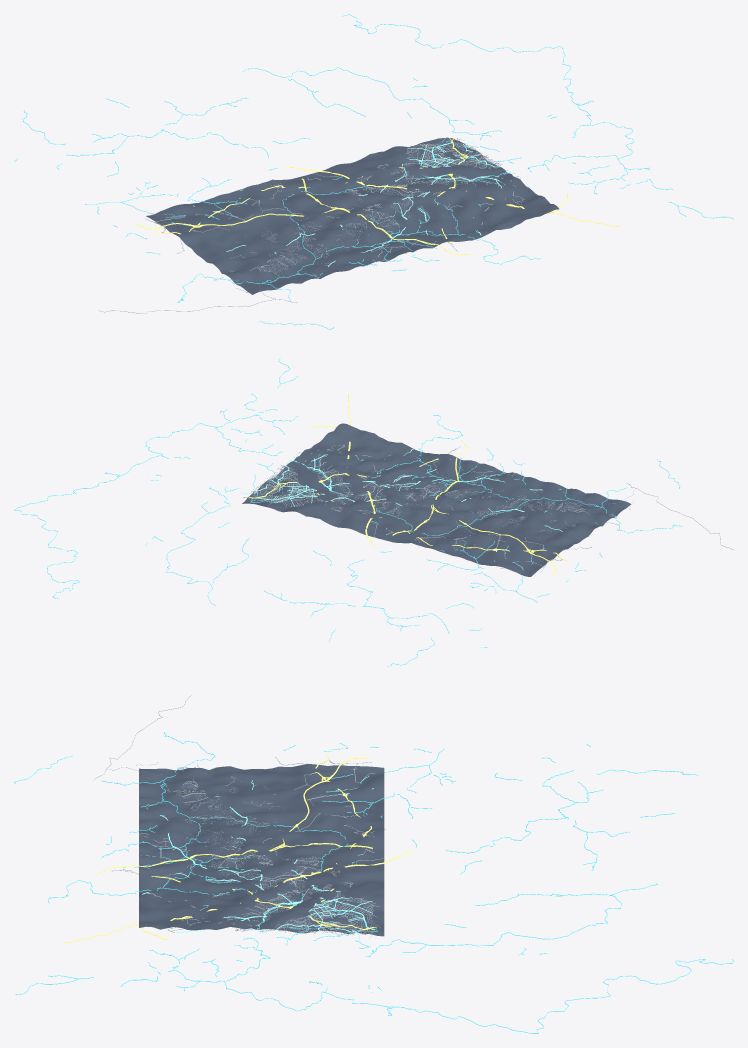
File: step1_campinas_basemap.glb
The picture shows the model from 3 angles, top to bottom: view 1: azimuth 30°, elevation 25°; view 2: azimuth 150°, elevation 25°; view 3: azimuth 270°, elevation 25°; orthographic projection. The views are drawn at different scales.
Visible parts, largest first — view 1: Base_Terrain_Campinas_30m, Rios_e_Corregos_Campinas, Ruas_Residenciais_Locais_4500, Vias_Coletoras_Bairros_2378, Rodovias_Anhanguera_Bandeirantes_535, Avenidas_Arteriais_e_BRT_1142; view 2: Base_Terrain_Campinas_30m, Rios_e_Corregos_Campinas, Ruas_Residenciais_Locais_4500, Vias_Coletoras_Bairros_2378, Rodovias_Anhanguera_Bandeirantes_535, Avenidas_Arteriais_e_BRT_1142; view 3: Base_Terrain_Campinas_30m, Rios_e_Corregos_Campinas, Ruas_Residenciais_Locais_4500, Vias_Coletoras_Bairros_2378, Rodovias_Anhanguera_Bandeirantes_535, Avenidas_Arteriais_e_BRT_1142.
Boxes of the visible parts, <box> form: Base_Terrain_Campinas_30m: <box>146,137,559,294</box>; Rios_e_Corregos_Campinas: <box>14,14,733,329</box>; Ruas_Residenciais_Locais_4500: <box>229,138,500,298</box>; Vias_Coletoras_Bairros_2378: <box>98,137,524,313</box>; Rodovias_Anhanguera_Bandeirantes_535: <box>135,137,619,255</box>; Avenidas_Arteriais_e_BRT_1142: <box>193,141,515,266</box>; Base_Terrain_Campinas_30m: <box>242,423,631,576</box>; Rios_e_Corregos_Campinas: <box>14,358,682,666</box>; Ruas_Residenciais_Locais_4500: <box>243,464,635,532</box>; Vias_Coletoras_Bairros_2378: <box>250,444,733,572</box>; Rodovias_Anhanguera_Bandeirantes_535: <box>249,394,569,575</box>; Avenidas_Arteriais_e_BRT_1142: <box>241,449,562,561</box>; Base_Terrain_Campinas_30m: <box>139,763,384,936</box>; Rios_e_Corregos_Campinas: <box>14,732,733,1033</box>; Ruas_Residenciais_Locais_4500: <box>106,762,375,936</box>; Vias_Coletoras_Bairros_2378: <box>93,695,386,935</box>; Rodovias_Anhanguera_Bandeirantes_535: <box>63,754,410,942</box>; Avenidas_Arteriais_e_BRT_1142: <box>142,780,373,940</box>.
Bounding box in the file's own units: 61.24 × 1.39 × 54.34.
